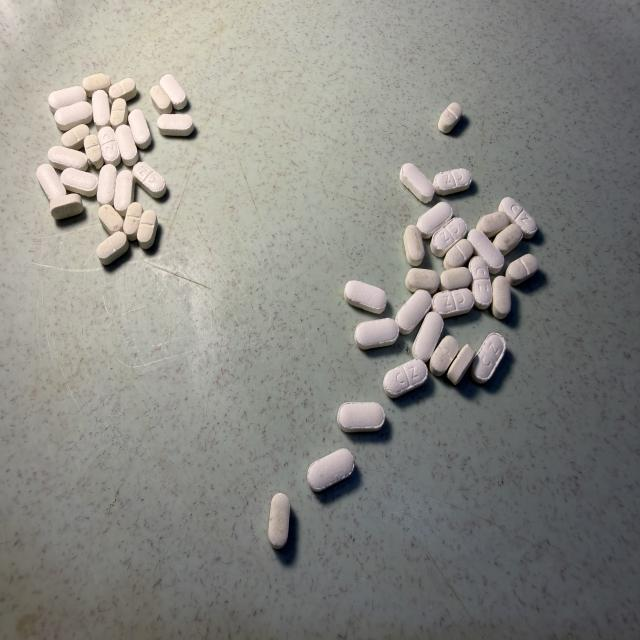pill: (308, 449, 354, 491), (471, 333, 505, 383), (384, 359, 427, 398), (499, 197, 537, 239), (468, 229, 504, 273), (396, 290, 431, 334), (412, 312, 443, 361), (337, 402, 385, 432), (430, 218, 466, 256), (344, 281, 386, 313), (355, 318, 398, 349), (400, 164, 434, 202), (417, 202, 452, 238), (432, 289, 474, 318), (469, 257, 492, 309), (133, 162, 166, 198), (269, 493, 290, 549), (429, 336, 458, 376), (447, 344, 475, 384), (36, 164, 66, 200), (55, 102, 92, 131), (433, 168, 471, 195), (97, 231, 128, 264), (61, 168, 97, 196), (48, 146, 88, 171), (506, 254, 538, 285), (48, 86, 86, 112), (97, 126, 121, 166), (115, 125, 138, 166), (114, 170, 134, 217), (160, 75, 186, 109), (136, 209, 158, 249), (444, 239, 473, 269), (494, 224, 522, 255), (129, 109, 151, 148), (477, 211, 509, 237), (50, 194, 83, 219), (406, 269, 439, 294), (404, 225, 424, 266), (492, 276, 511, 319), (440, 266, 472, 291), (157, 114, 193, 136), (122, 202, 142, 241), (97, 165, 116, 205), (438, 103, 462, 133), (99, 205, 123, 235), (92, 90, 110, 129), (61, 125, 89, 150), (84, 134, 103, 169), (83, 74, 111, 97), (150, 85, 172, 114), (109, 98, 128, 130), (109, 78, 136, 100)
